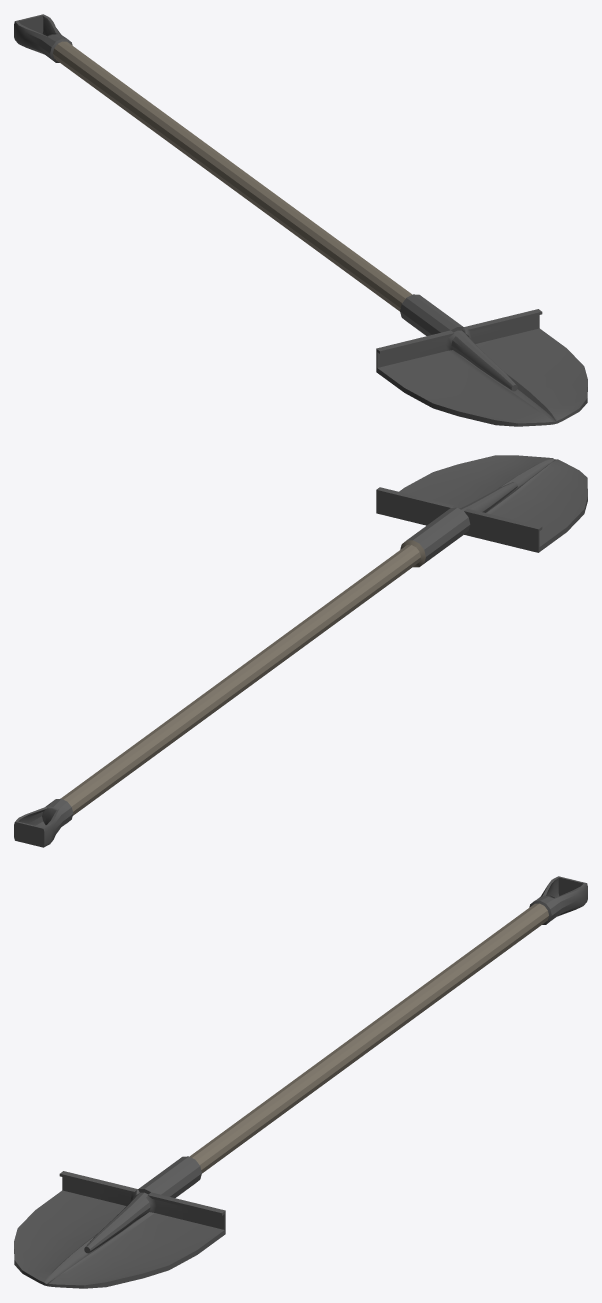
3 views of the same model, one above another, from view 1: azimuth 30°, elevation 25°; view 2: azimuth 150°, elevation 25°; view 3: azimuth 330°, elevation 25° (orthographic).
Parts seen in each view (by area): view 1: pCylinder1; view 2: pCylinder1; view 3: pCylinder1.
Part boxes in pixels (x1=…): pCylinder1: x1=14, y1=14, x2=587, y2=426; pCylinder1: x1=14, y1=455, x2=587, y2=847; pCylinder1: x1=14, y1=876, x2=587, y2=1288.
Bounding box in the file's own units: 17.16 × 2.75 × 96.3.
